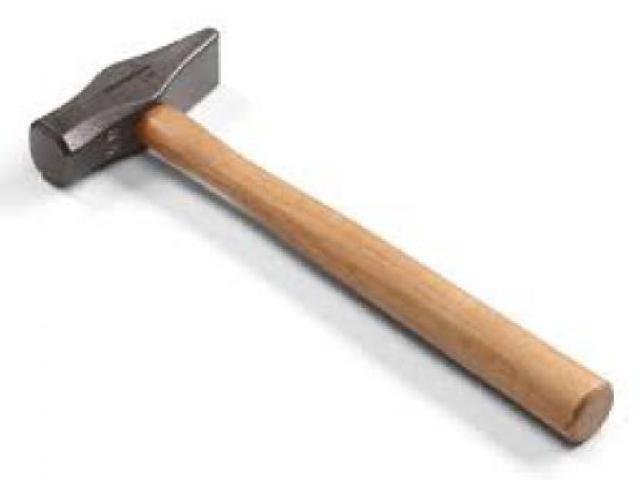Hammer: (31, 28, 612, 443)
